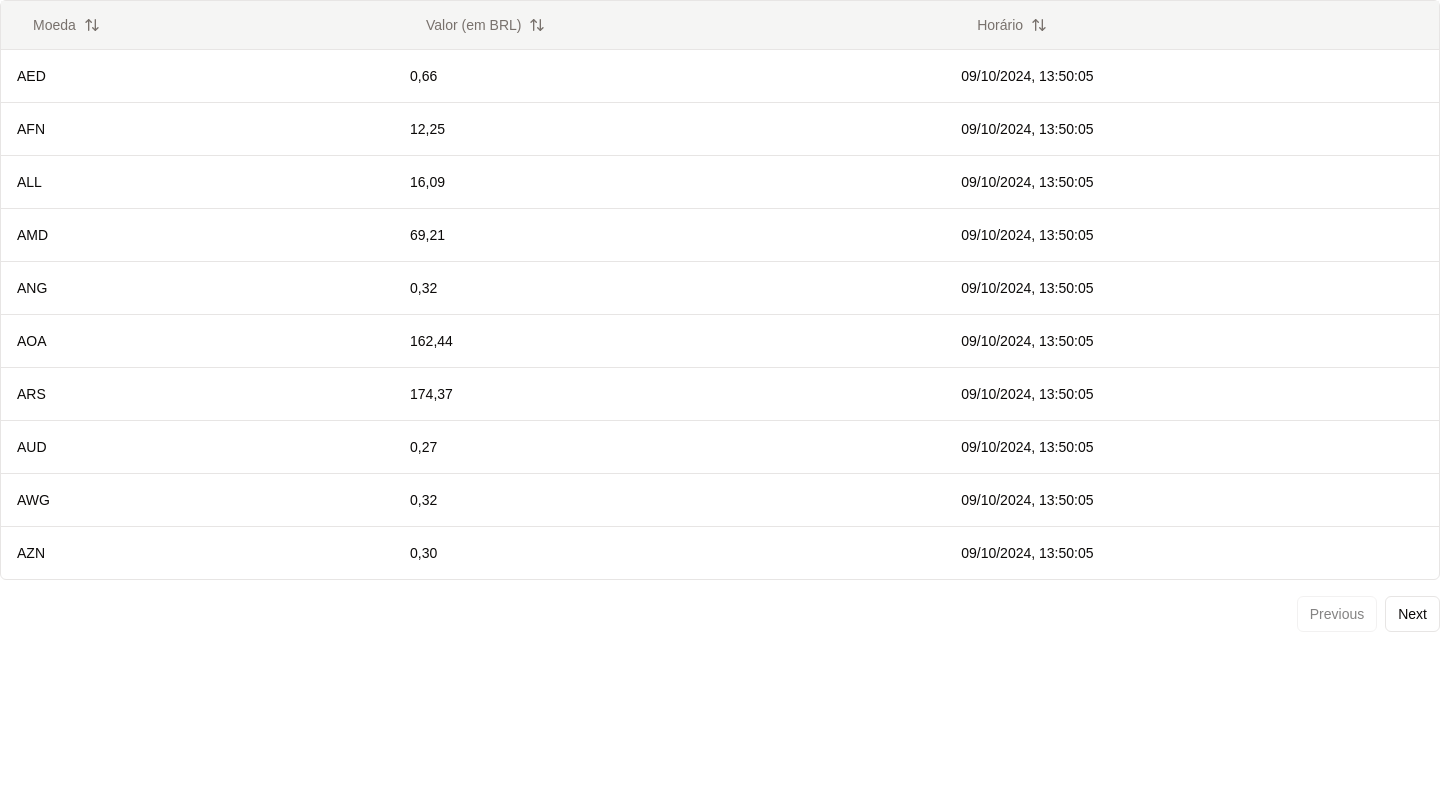
Test: Currency table tests when table load with success › should sort buttons by rate clicking on column of rate button
Expected: the row with test id "AED" is shown, x1=1 y1=49 x2=1439 y2=102
Click the button with test id "sort-rate-button".
click(486, 25)  # box x1=410 y1=5 x2=561 y2=45
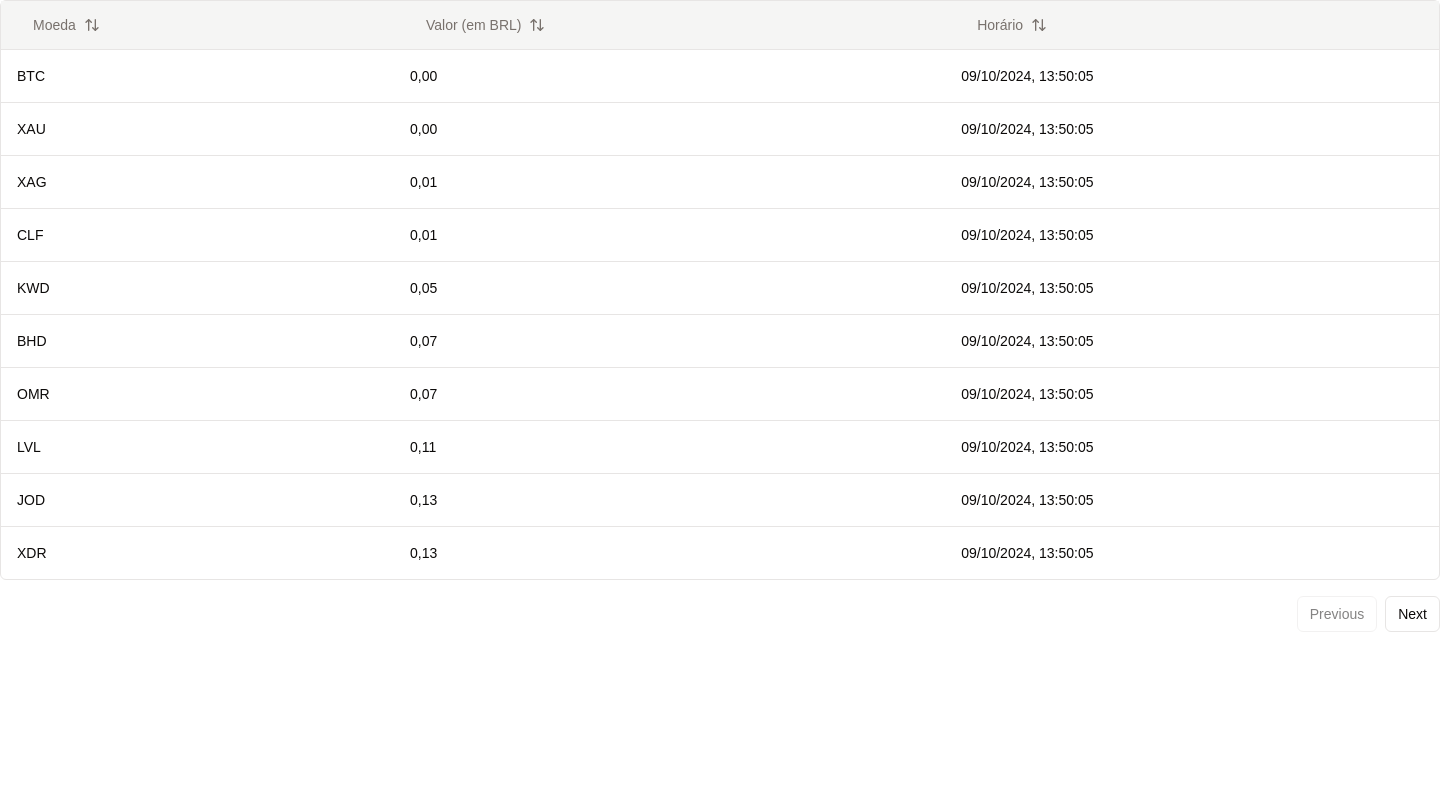
Result: the row with test id "BTC" is shown at x1=1 y1=49 x2=1439 y2=102
